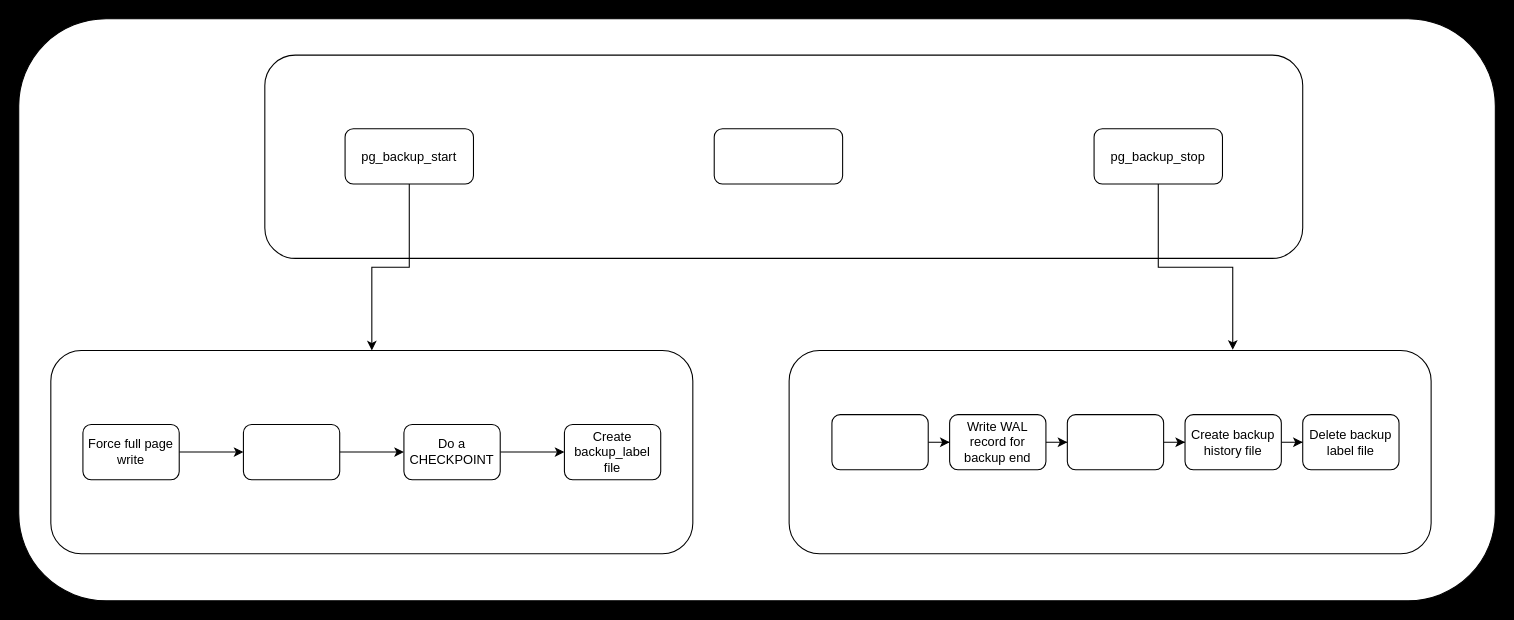
Image size: 1514x620. Some labels were removed from this diagram. The centre of each missing label's shape, as x and y in pixels:
Reset to non full page if needed: pixel 879 442
Switch to current WAL file: pixel 291 451
Switch WAL file: pixel 1115 442
Take a snapshot: pixel 778 156
